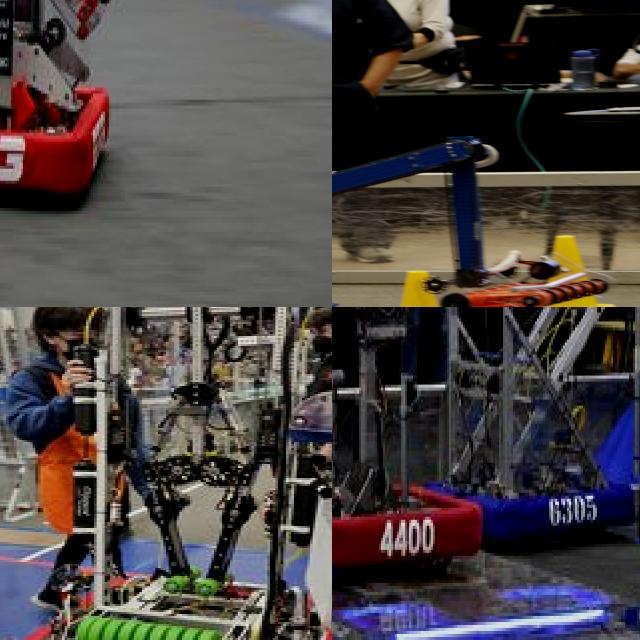FRC-Robots: (0, 307, 332, 640), (332, 101, 560, 307), (480, 307, 638, 558), (332, 307, 498, 536), (0, 0, 148, 242)
